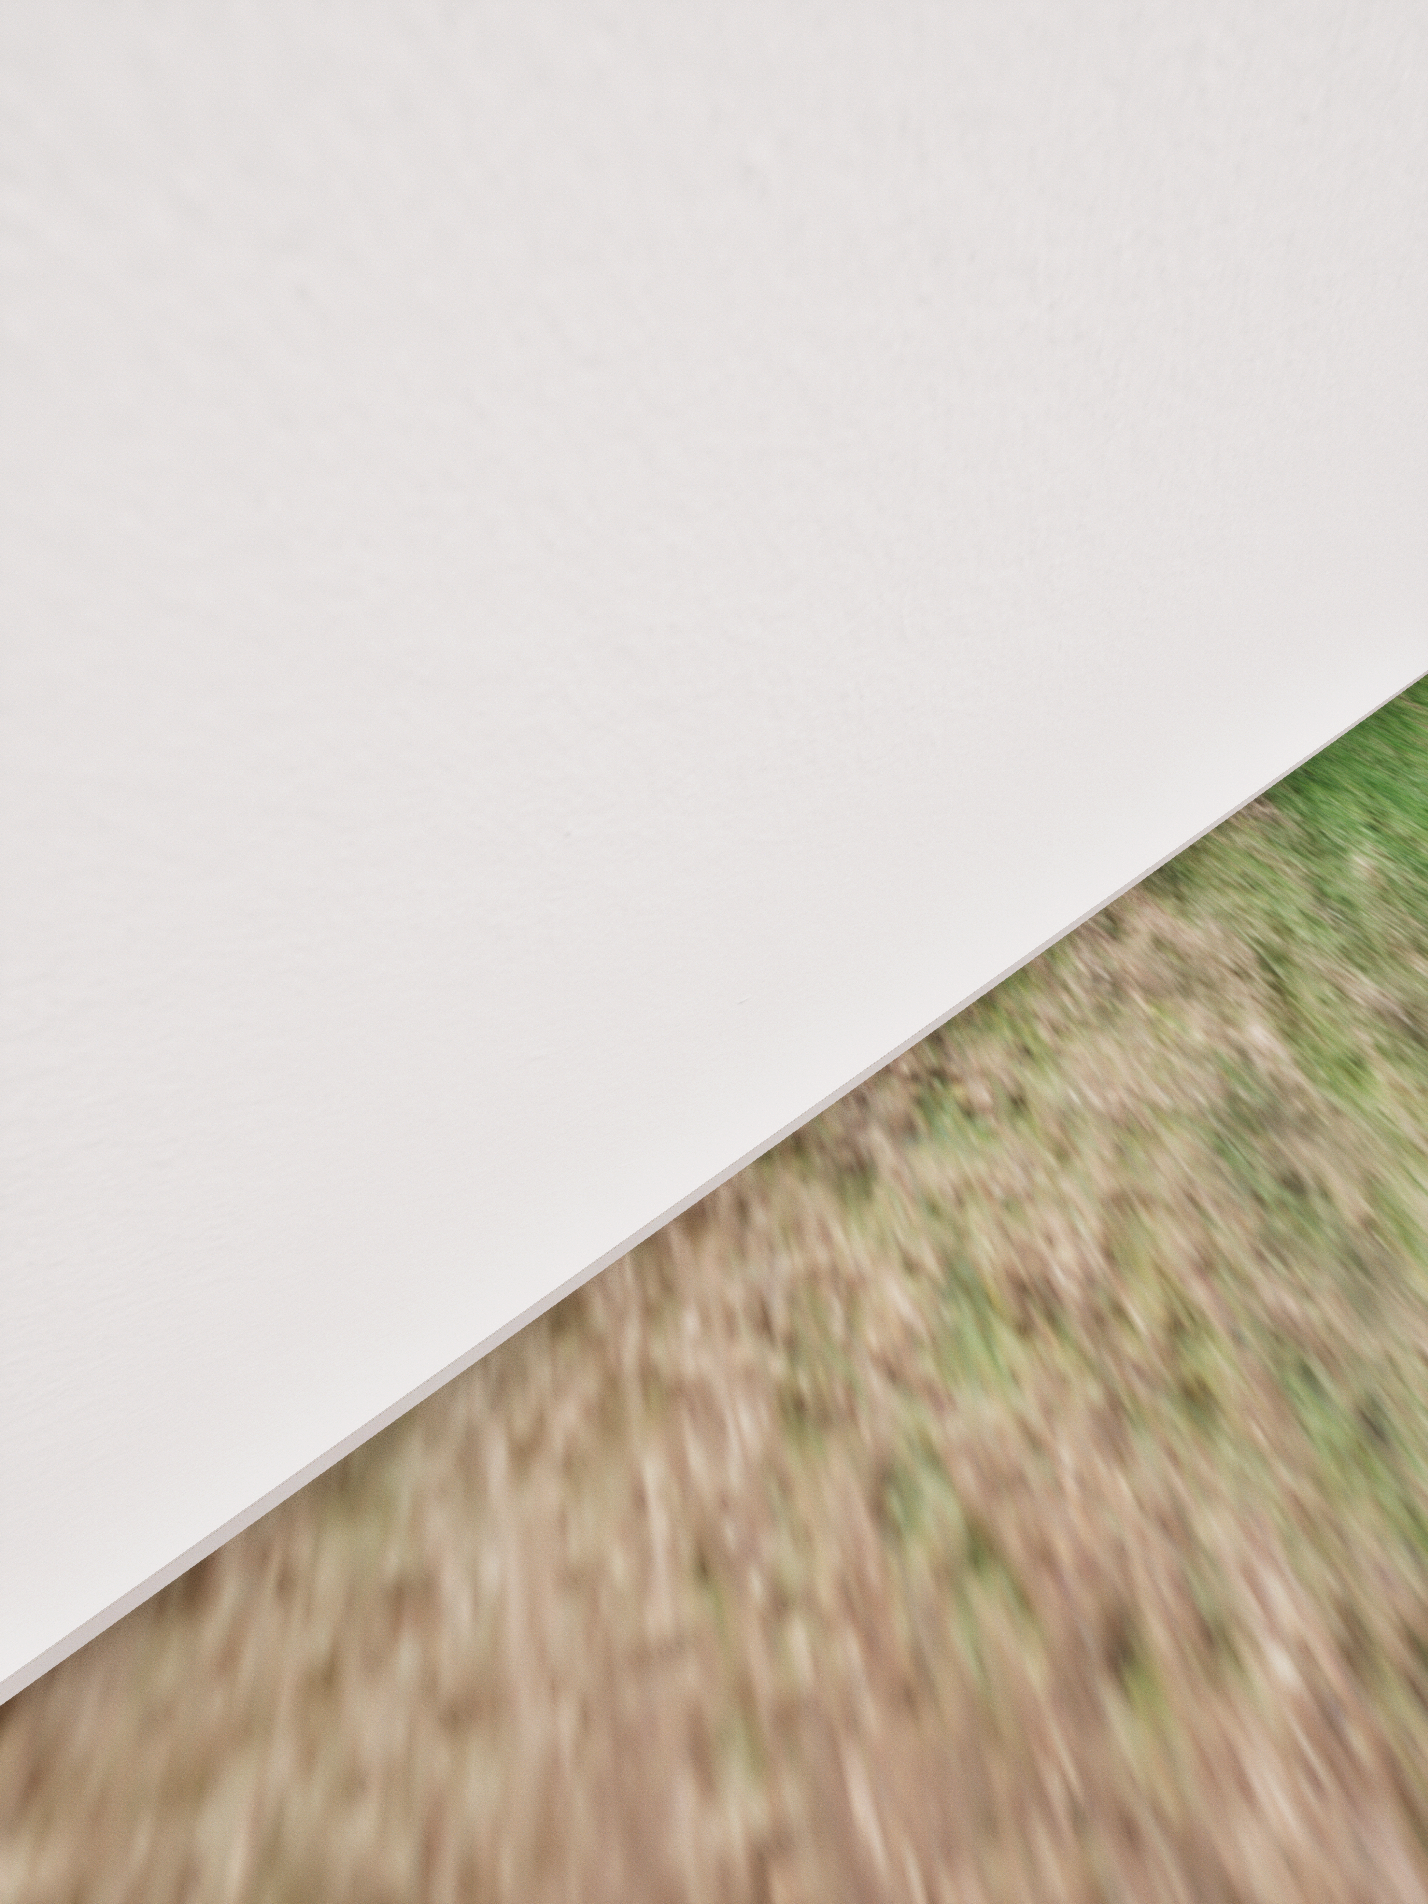soup: (564, 934, 681, 1091)
